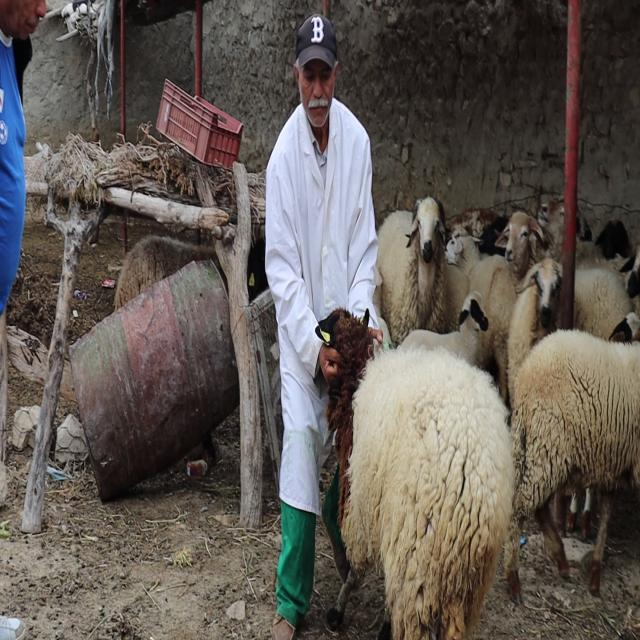Score_4: (315, 308, 514, 639)
